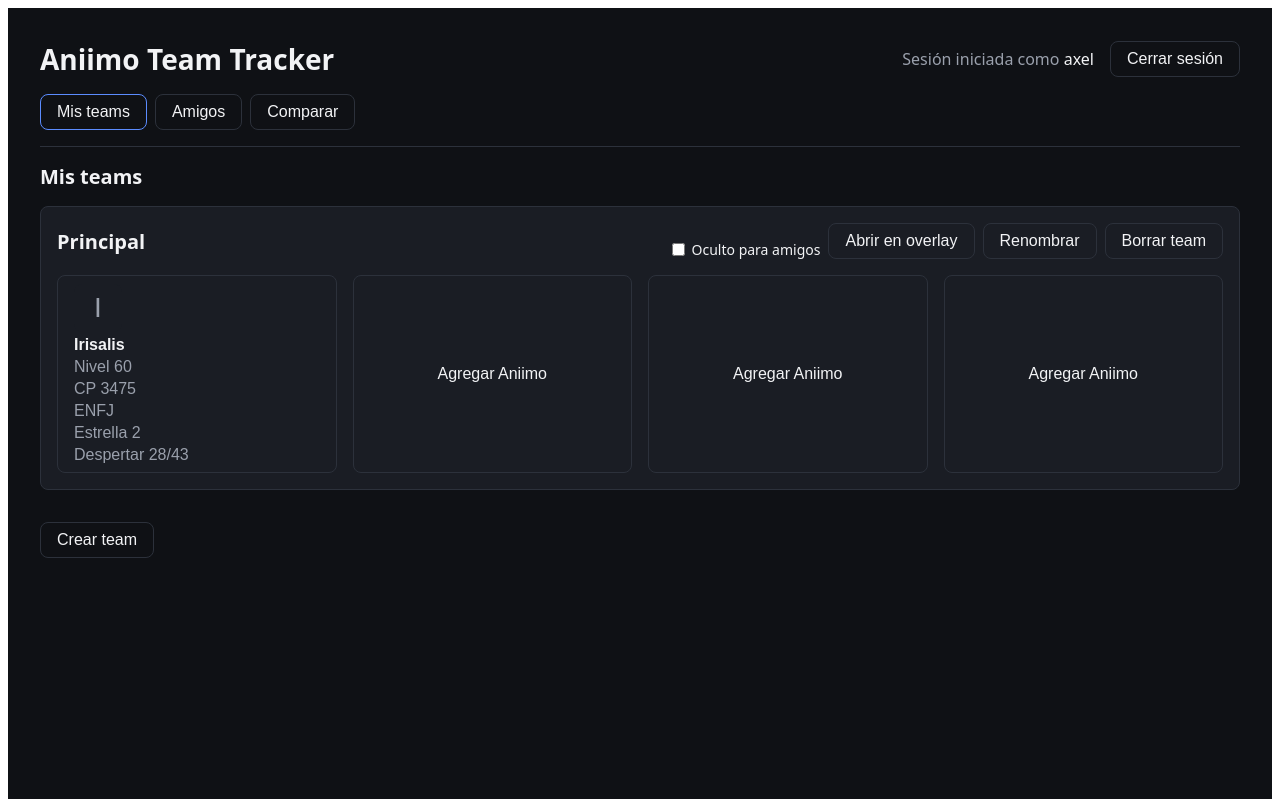
foco al navegar › al abrir una ficha el foco no queda en el body
Expected: the heading "Mis teams" is shown, left=40, top=163, right=142, bottom=190
What coordinates should you click on to do the following:
click the button "I Irisalis Nivel 60 CP 3475 ENFJ Estrella 2 Despertar 28/43"
I would click on:
 (98, 308)
Its box is left=57, top=275, right=336, bottom=473.
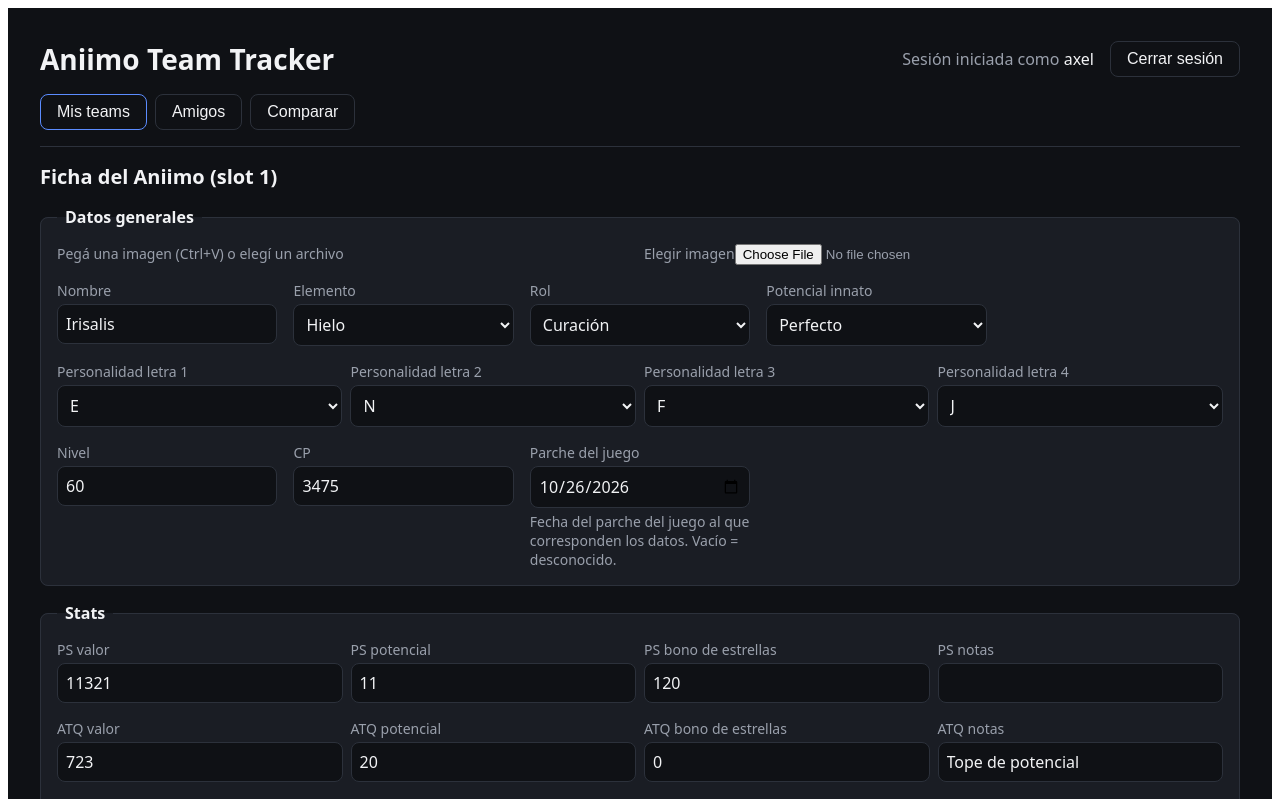
Result: the field labelled "Nombre" is shown at left=57, top=304, right=277, bottom=344
